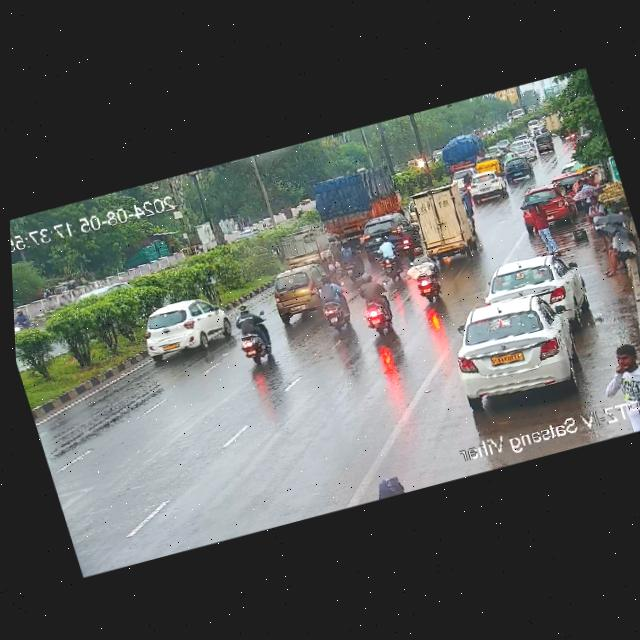car: (439, 283, 588, 407), (126, 286, 238, 363), (480, 245, 587, 325), (263, 255, 348, 323), (352, 205, 421, 264), (516, 180, 581, 236), (465, 172, 510, 208), (499, 153, 534, 184), (508, 137, 538, 162), (531, 130, 557, 157), (471, 156, 501, 178), (531, 130, 556, 155)
motorcycle: (220, 303, 277, 369), (350, 270, 399, 338), (309, 266, 356, 336), (403, 243, 444, 304), (368, 232, 410, 285), (333, 234, 369, 287), (392, 213, 427, 264), (14, 306, 40, 336)
person: (588, 333, 640, 407), (586, 219, 640, 280), (523, 197, 556, 249), (575, 174, 602, 213)
truck: (305, 156, 411, 245), (398, 172, 490, 272), (436, 127, 487, 174)
